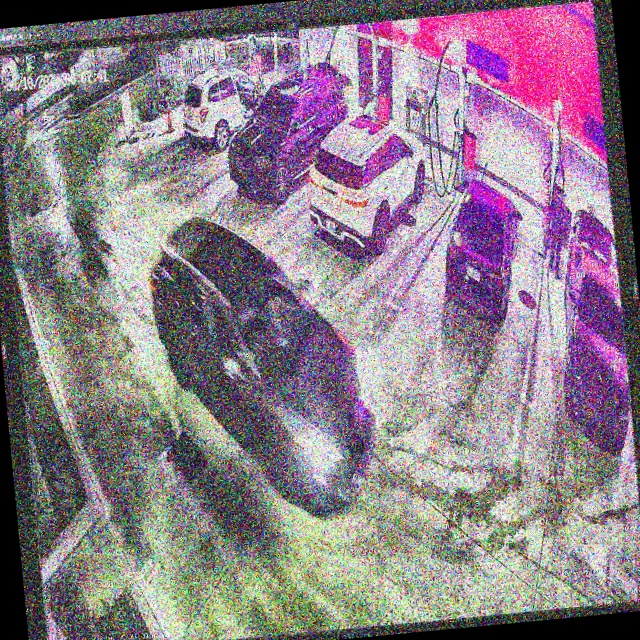Car: (142, 202, 386, 536), (301, 101, 434, 261), (222, 64, 355, 202), (437, 174, 529, 325), (178, 66, 279, 145)
